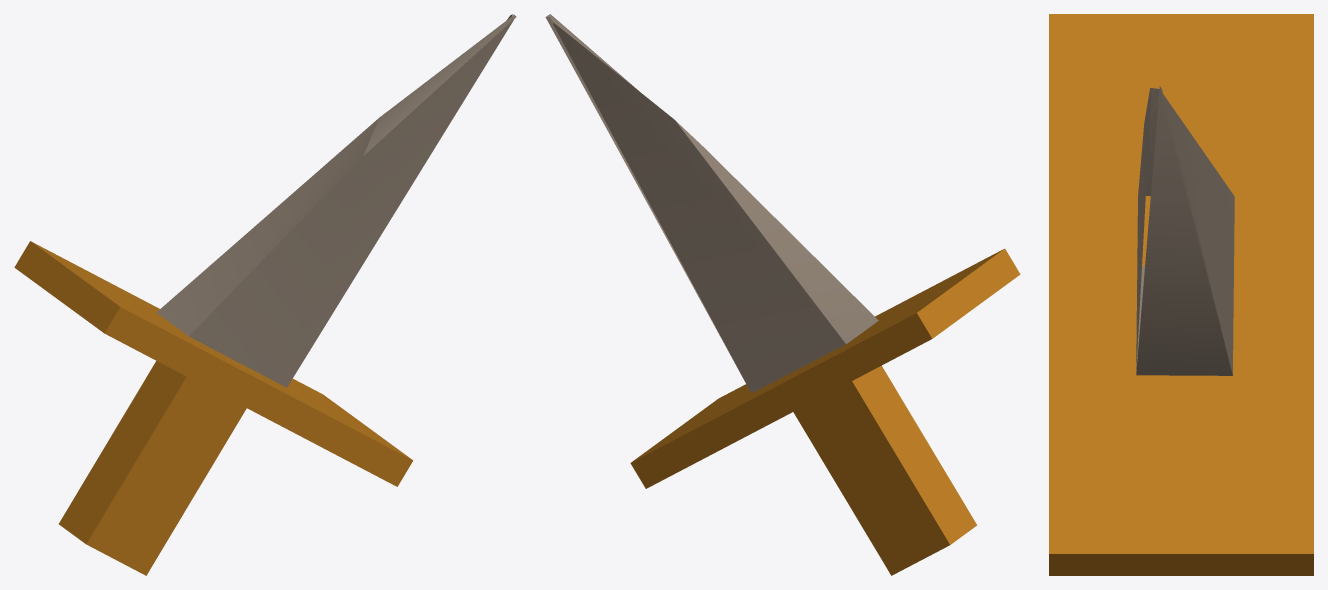
Rendered from Wood Sword.glb.
The picture shows the model from 3 angles, left to right: view 1: azimuth 30°, elevation 25°; view 2: azimuth 150°, elevation 25°; view 3: azimuth 270°, elevation 25°; orthographic projection. The views are drawn at different scales.
Parts seen in each view (by area): view 1: Cube001_1, Cube001; view 2: Cube001_1, Cube001; view 3: Cube001_1, Cube001.
Boxes of the visible parts, x1,y1,x2,y2 form: Cube001_1: [14, 241, 413, 575]; Cube001: [156, 14, 516, 387]; Cube001_1: [630, 248, 1020, 575]; Cube001: [545, 14, 878, 393]; Cube001_1: [1049, 14, 1313, 575]; Cube001: [1136, 86, 1234, 375].
Bounding box in the file's own units: 7.39 × 7.35 × 2.58.
